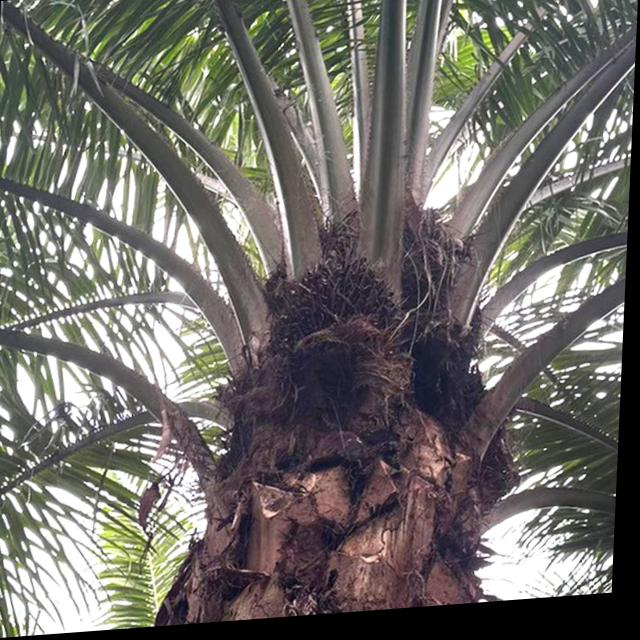almost: (270, 254, 410, 388)
